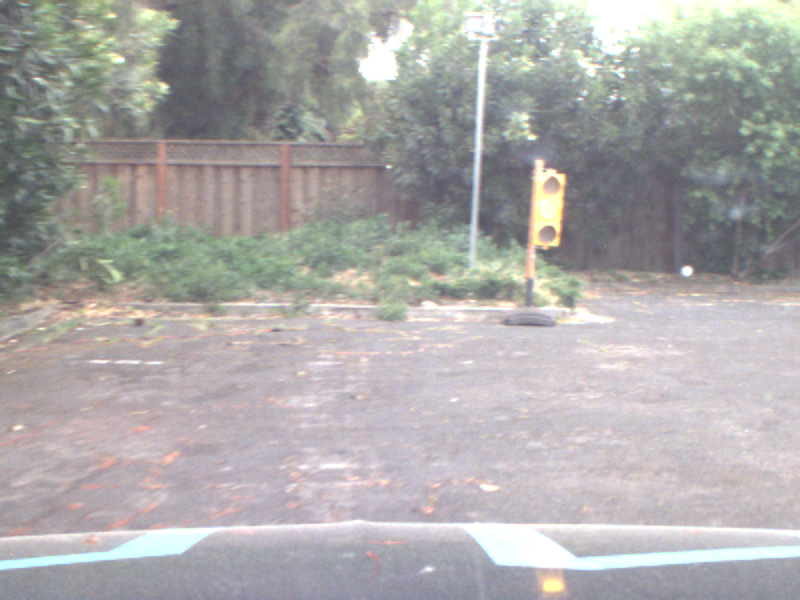Yellow: (530, 170, 563, 247)
